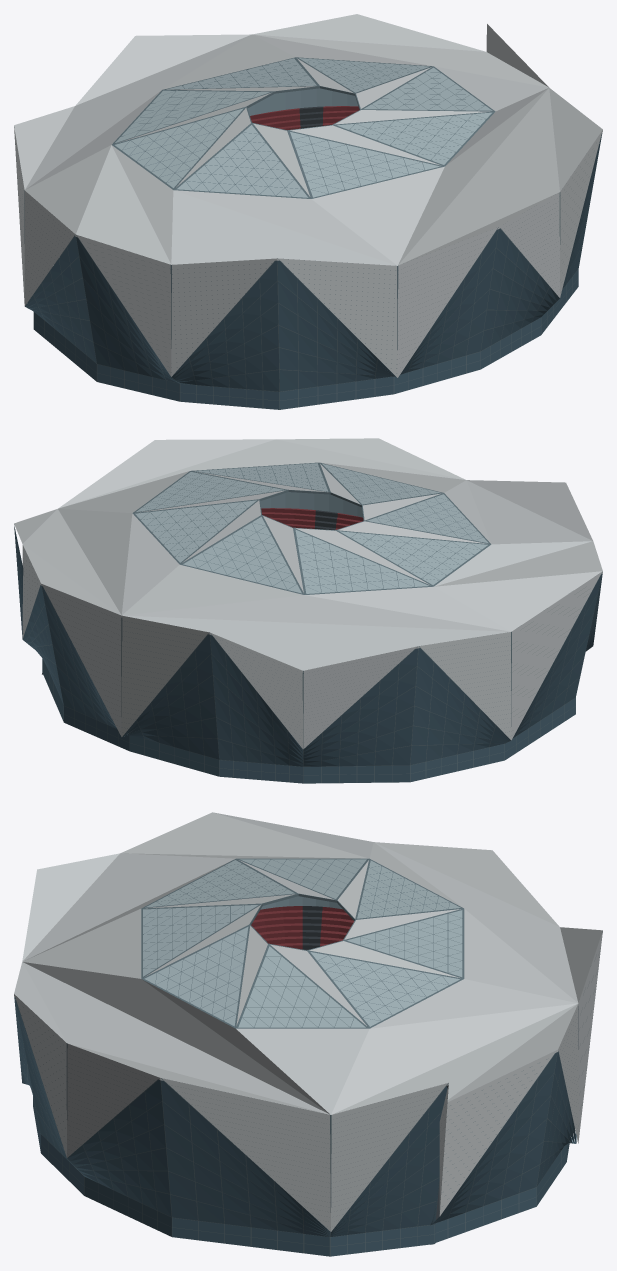
File: mercedes-benz-stadium-near.glb
3 views of the same model, one above another, from view 1: azimuth 30°, elevation 25°; view 2: azimuth 150°, elevation 25°; view 3: azimuth 270°, elevation 25° (orthographic). The views are drawn at different scales.
Parts seen in each view (by area): view 1: mercedes-benz-stadium-0-silver, mercedes-benz-stadium-0-glass, mercedes-benz-stadium-0-roof, mercedes-benz-stadium-0-frame, mercedes-benz-stadium-0-glow, mercedes-benz-stadium-0-seating; view 2: mercedes-benz-stadium-0-silver, mercedes-benz-stadium-0-glass, mercedes-benz-stadium-0-roof, mercedes-benz-stadium-0-frame, mercedes-benz-stadium-0-glow, mercedes-benz-stadium-0-seating; view 3: mercedes-benz-stadium-0-silver, mercedes-benz-stadium-0-glass, mercedes-benz-stadium-0-roof, mercedes-benz-stadium-0-frame, mercedes-benz-stadium-0-seating, mercedes-benz-stadium-0-dark.
Part boxes in pixels (x1,y1,x2,y2): mercedes-benz-stadium-0-silver: (14, 14, 602, 377); mercedes-benz-stadium-0-glass: (25, 133, 602, 409); mercedes-benz-stadium-0-roof: (115, 58, 492, 197); mercedes-benz-stadium-0-frame: (14, 57, 601, 409); mercedes-benz-stadium-0-glow: (247, 88, 357, 115); mercedes-benz-stadium-0-seating: (250, 106, 359, 130); mercedes-benz-stadium-0-silver: (14, 438, 602, 748); mercedes-benz-stadium-0-glass: (14, 524, 602, 783); mercedes-benz-stadium-0-roof: (135, 463, 488, 593); mercedes-benz-stadium-0-frame: (15, 462, 602, 783); mercedes-benz-stadium-0-glow: (260, 492, 362, 517); mercedes-benz-stadium-0-seating: (261, 508, 363, 529); mercedes-benz-stadium-0-silver: (14, 812, 602, 1231); mercedes-benz-stadium-0-glass: (14, 997, 576, 1256); mercedes-benz-stadium-0-roof: (143, 859, 462, 1027); mercedes-benz-stadium-0-frame: (15, 858, 602, 1256); mercedes-benz-stadium-0-seating: (251, 906, 354, 949); mercedes-benz-stadium-0-dark: (302, 906, 448, 1219).
Bounding box in the file's own units: 276 × 93 × 246.
